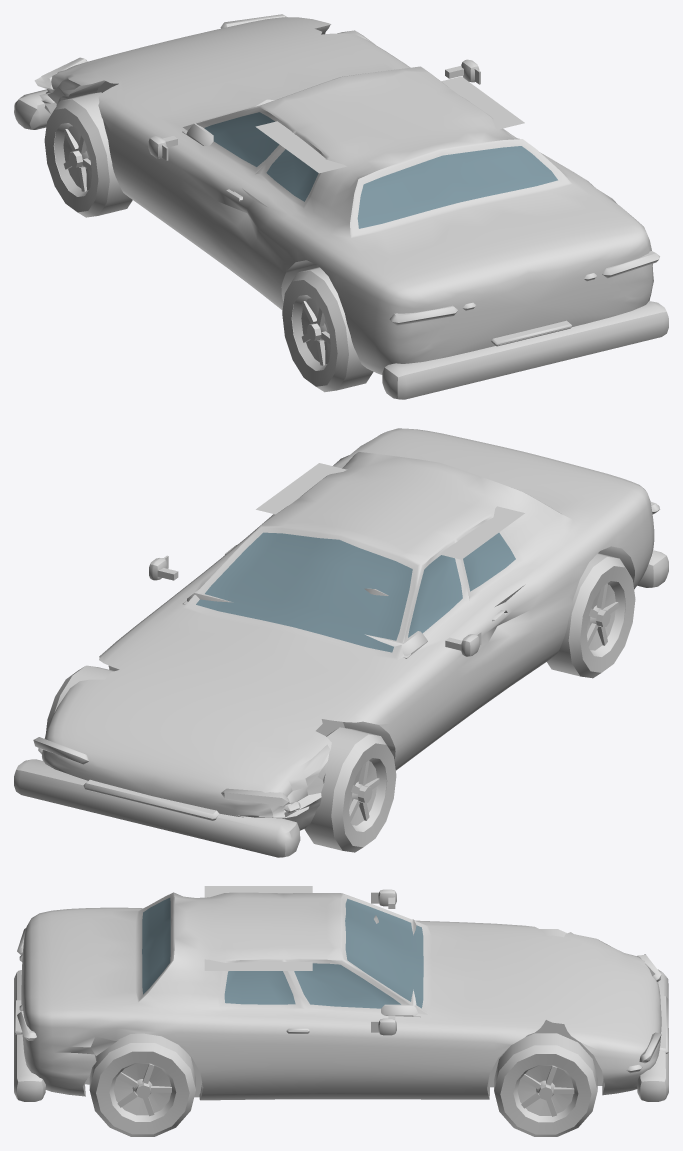
The model's file is car_sports_dmg1.glb.
3 views of the same model, one above another, from view 1: azimuth 30°, elevation 25°; view 2: azimuth 150°, elevation 25°; view 3: azimuth 270°, elevation 25° (orthographic). The views are drawn at different scales.
Parts seen in each view (by area): view 1: car_sports_dmg1; view 2: car_sports_dmg1; view 3: car_sports_dmg1.
Boxes of the visible parts, left/top/right/bottom form: car_sports_dmg1: left=14, top=14, right=668, bottom=399; car_sports_dmg1: left=14, top=428, right=668, bottom=857; car_sports_dmg1: left=14, top=886, right=668, bottom=1136.
Size of the model in its own units: 2.2 by 1.23 by 4.55.
